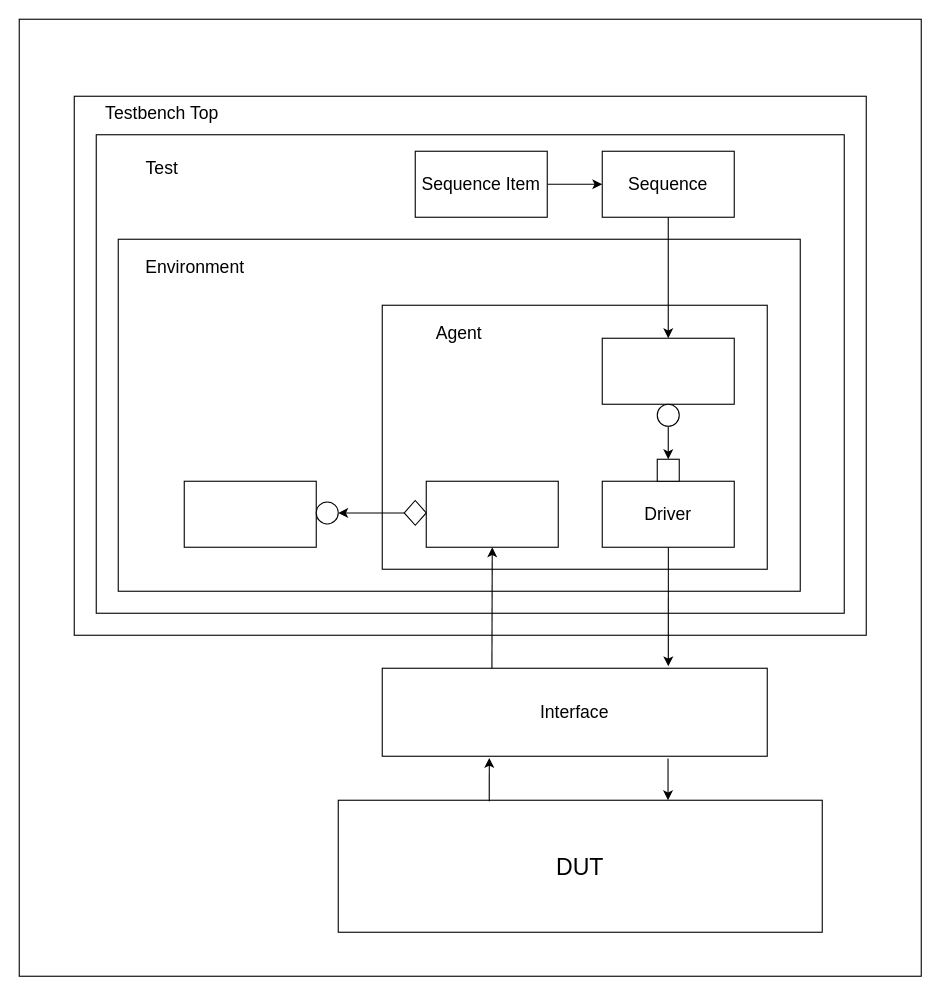
The diagram is 941 pixels wide and 996 high, and some of its shapes have lost their labels. The box of each missing label's shape, as (x1, y1, x2, y2) in pixels:
Monitor: (425, 480, 558, 547)
Scoreboard: (183, 480, 316, 547)
Sequencer: (601, 337, 734, 404)
